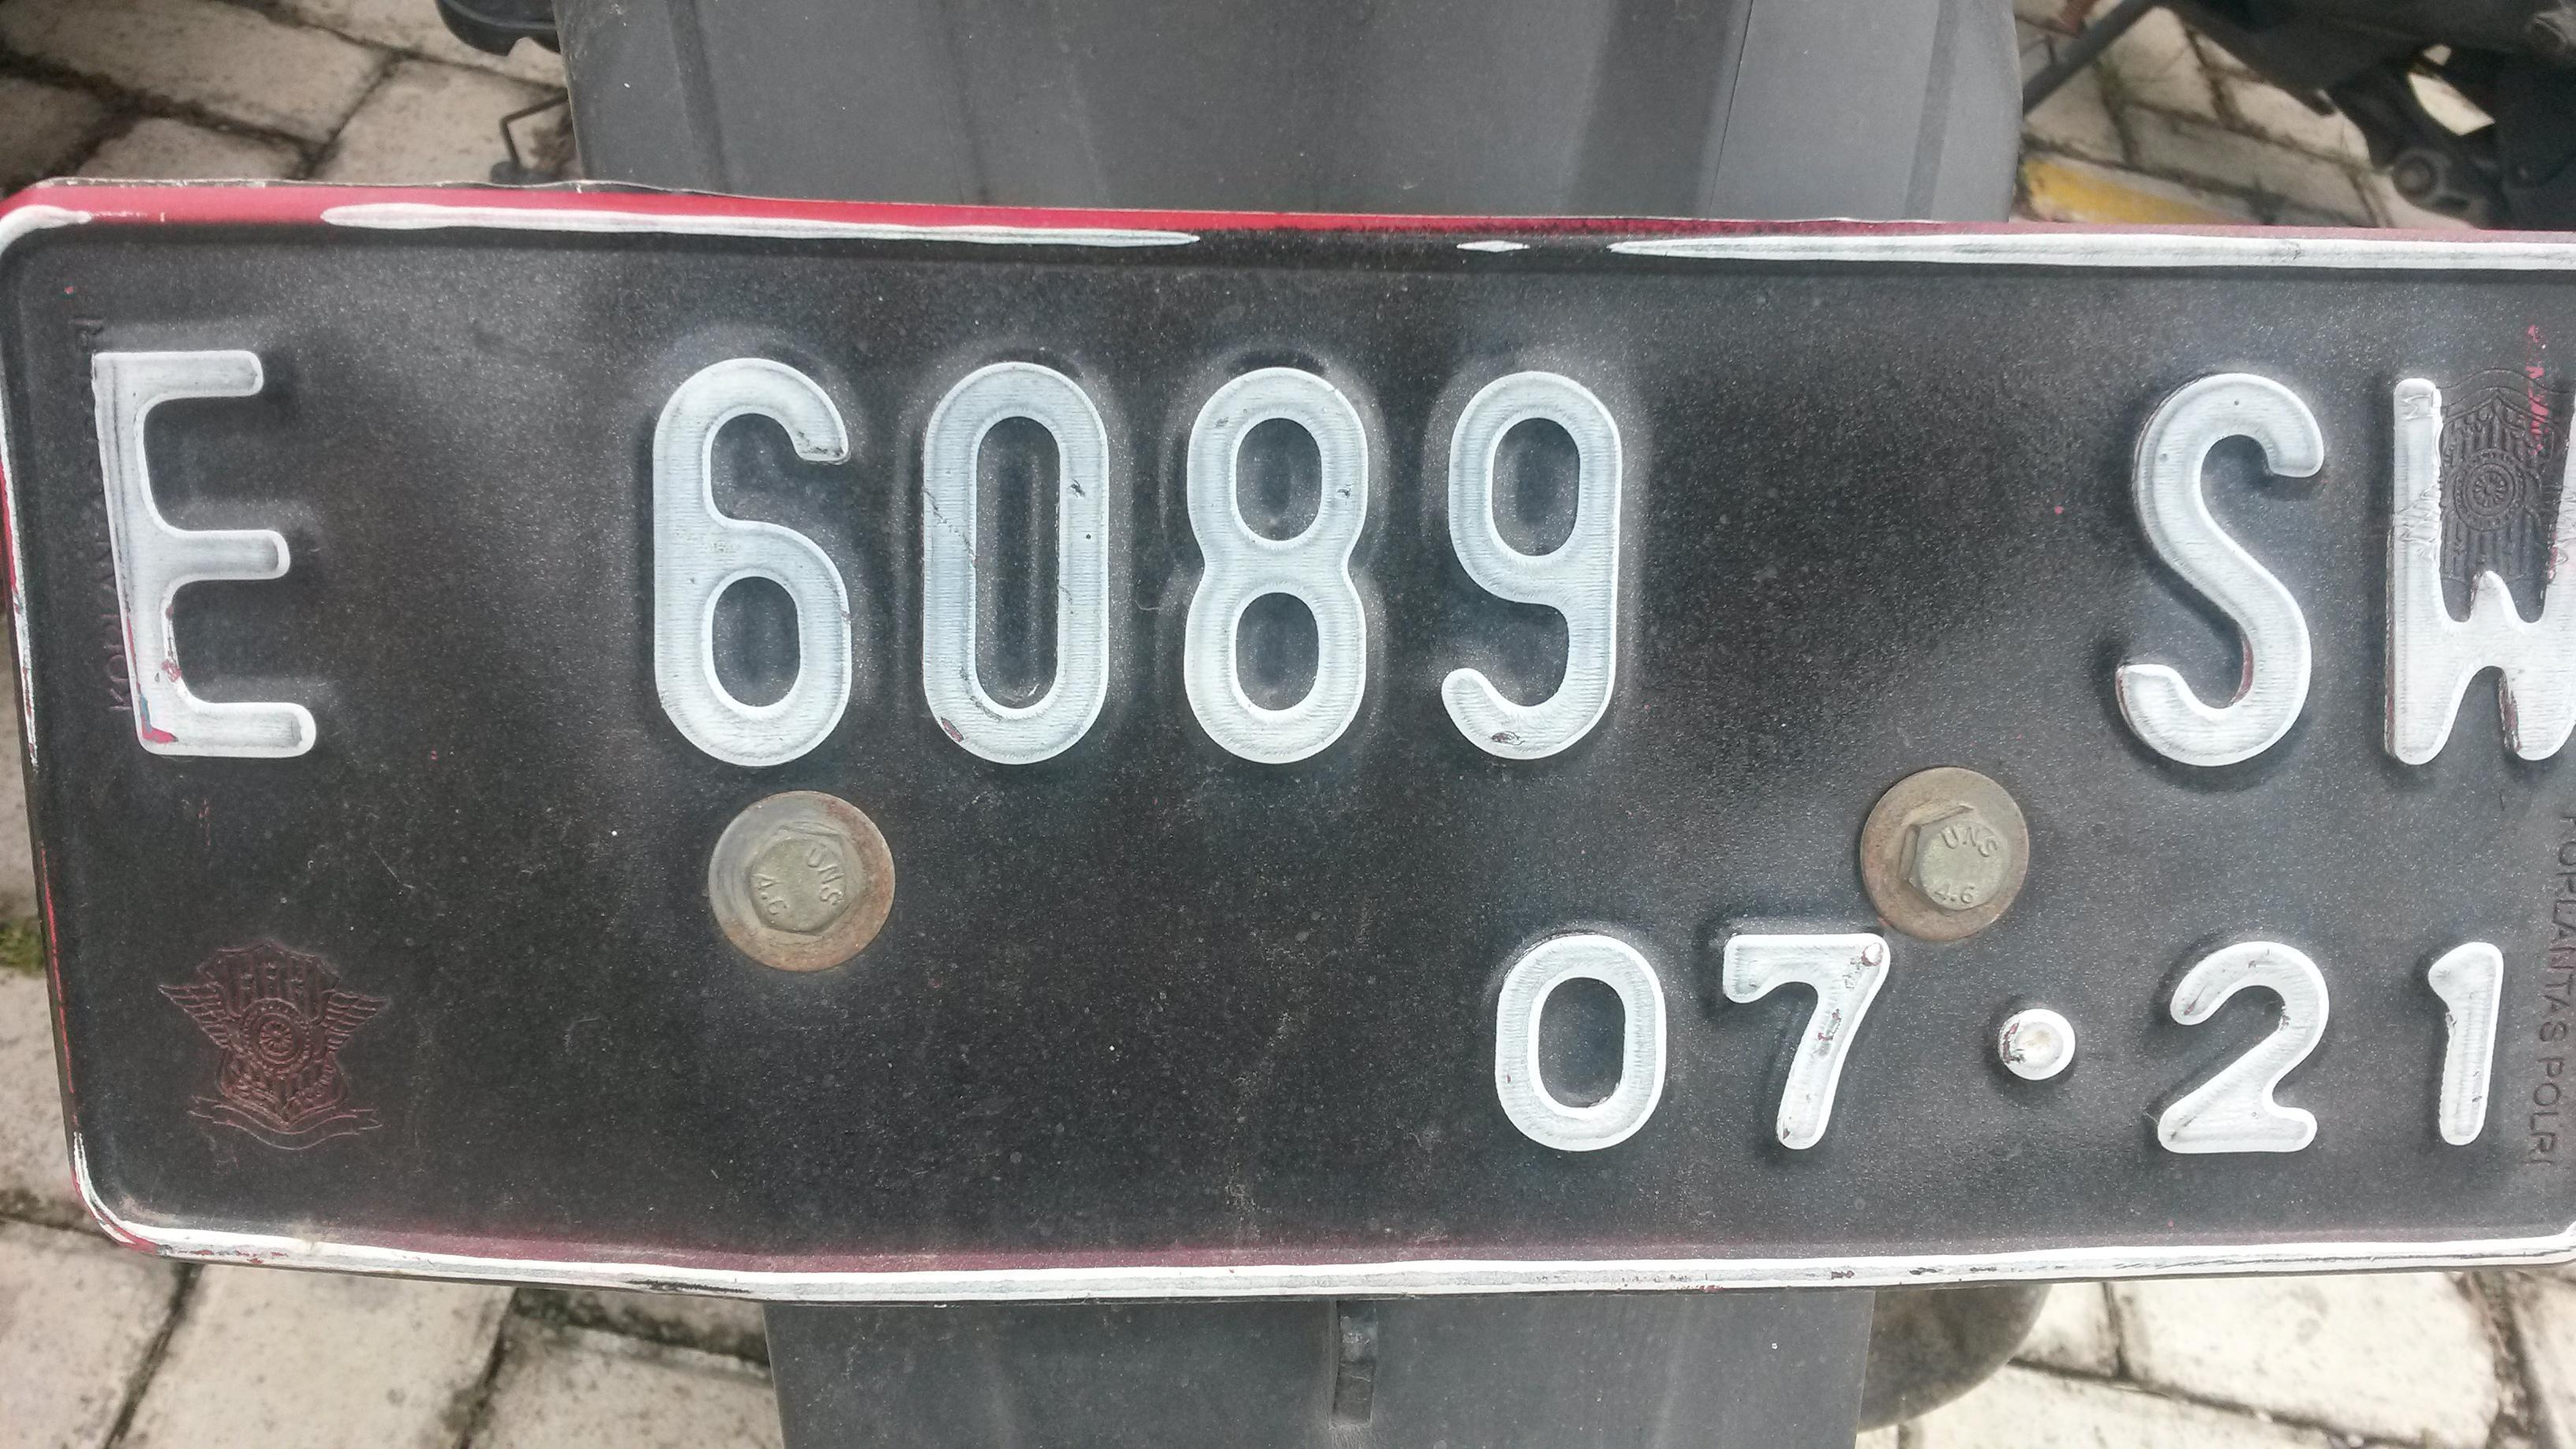0: (885, 338, 1146, 789)
6: (607, 340, 893, 784)
8: (1146, 338, 1391, 794)
9: (1385, 341, 1672, 791)
E: (83, 326, 407, 777)
S: (2047, 354, 2355, 798)
W: (2348, 349, 2576, 800)
